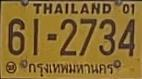1: (32, 18, 38, 55)
2: (60, 18, 76, 55)
3: (98, 18, 115, 55)
4: (118, 18, 134, 56)
6: (7, 18, 24, 54)
7: (79, 18, 96, 55)
BKK: (27, 60, 117, 77)
